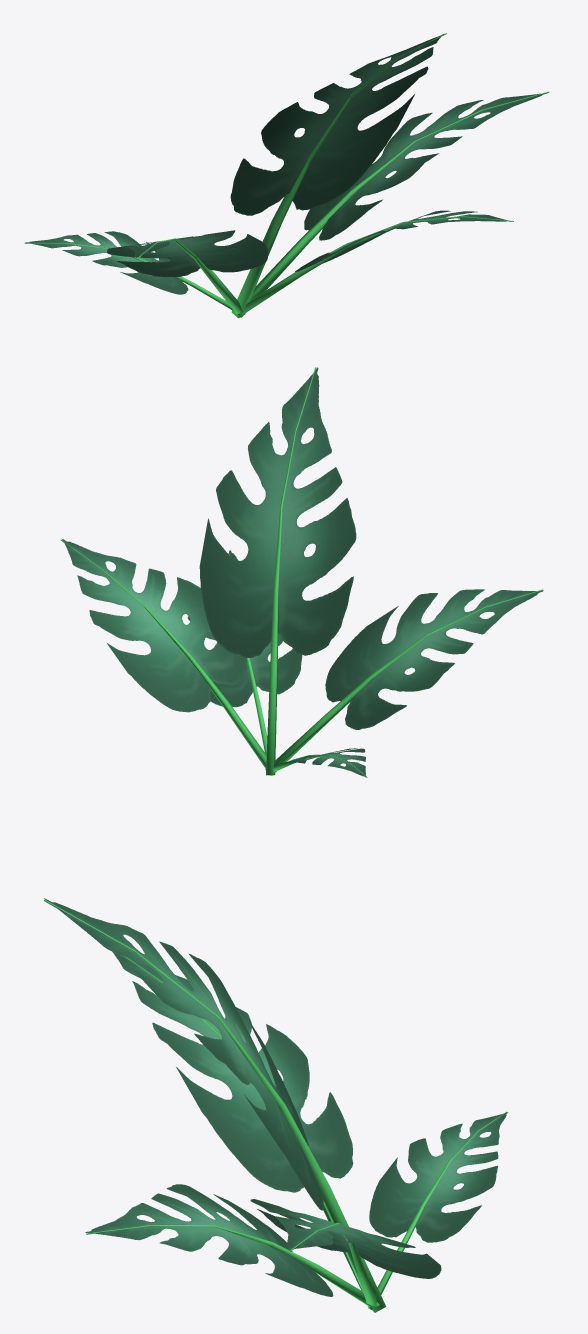
Rendered from greenFern1.obj.
The picture shows the model from 3 angles, top to bottom: view 1: azimuth 30°, elevation 25°; view 2: azimuth 150°, elevation 25°; view 3: azimuth 270°, elevation 25°; orthographic projection. The views are drawn at different scales.
Visible parts, largest first — view 1: Plane.001_Plane.007, Plane.002_Plane.009, Plane.000_Plane.008, Plane.004_Plane.011, Cube.001_Cube.007, Cube.002_Cube.009, Plane.003_Plane.010, Cube.003_Cube.010, Cube.000_Cube.008, Cube.004_Cube.011; view 2: Plane.001_Plane.007, Plane.002_Plane.009, Plane.000_Plane.008, Plane.003_Plane.010, Cube.001_Cube.007, Cube.000_Cube.008, Cube.002_Cube.009, Plane.004_Plane.011; view 3: Plane.000_Plane.008, Plane.001_Plane.007, Plane.004_Plane.011, Plane.003_Plane.010, Plane.002_Plane.009, Cube.001_Cube.007, Cube.003_Cube.010, Cube.002_Cube.009, Cube.004_Cube.011.
Boxes of the visible parts, box(x1,y1,x2,y2) form: Plane.001_Plane.007: box(230, 34, 443, 215); Plane.002_Plane.009: box(304, 92, 549, 240); Plane.000_Plane.008: box(107, 230, 268, 276); Plane.004_Plane.011: box(25, 231, 188, 294); Cube.001_Cube.007: box(231, 33, 446, 318); Cube.002_Cube.009: box(237, 91, 548, 317); Plane.003_Plane.010: box(295, 210, 512, 271); Cube.003_Cube.010: box(241, 216, 513, 315); Cube.000_Cube.008: box(138, 238, 245, 315); Cube.004_Cube.011: box(24, 243, 233, 310); Plane.001_Plane.007: box(199, 367, 356, 657); Plane.002_Plane.009: box(62, 539, 247, 712); Plane.000_Plane.008: box(325, 589, 543, 729); Plane.003_Plane.010: box(187, 550, 302, 707); Cube.001_Cube.007: box(266, 367, 316, 775); Cube.000_Cube.008: box(265, 589, 542, 775); Cube.002_Cube.009: box(61, 539, 266, 768); Plane.004_Plane.011: box(273, 748, 366, 777); Plane.000_Plane.008: box(112, 952, 353, 1192); Plane.001_Plane.007: box(44, 898, 323, 1210); Plane.004_Plane.011: box(369, 1112, 508, 1242); Plane.003_Plane.010: box(85, 1184, 333, 1296); Plane.002_Plane.009: box(250, 1199, 441, 1278); Cube.001_Cube.007: box(44, 899, 386, 1312); Cube.003_Cube.010: box(86, 1224, 372, 1307); Cube.002_Cube.009: box(290, 1222, 376, 1308); Cube.004_Cube.011: box(377, 1111, 506, 1294).
Bounding box in the file's own units: 2.06 × 1.27 × 1.35.
